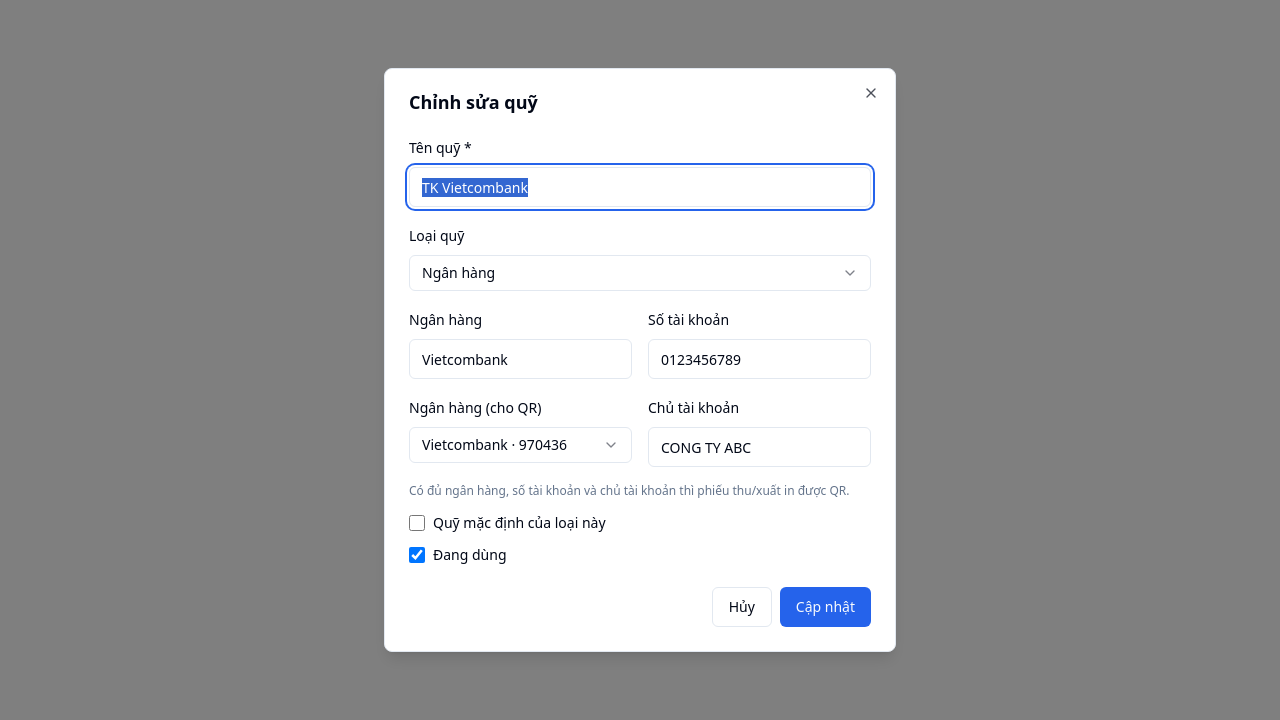
Scenario: FundFormDialog bank fields › bank_options_show_short_name_and_bin
The width and height of the screenshot is (1280, 720).
Click the dropdown named "Ngân hàng (cho QR)": (520, 445) [409,427,632,463]
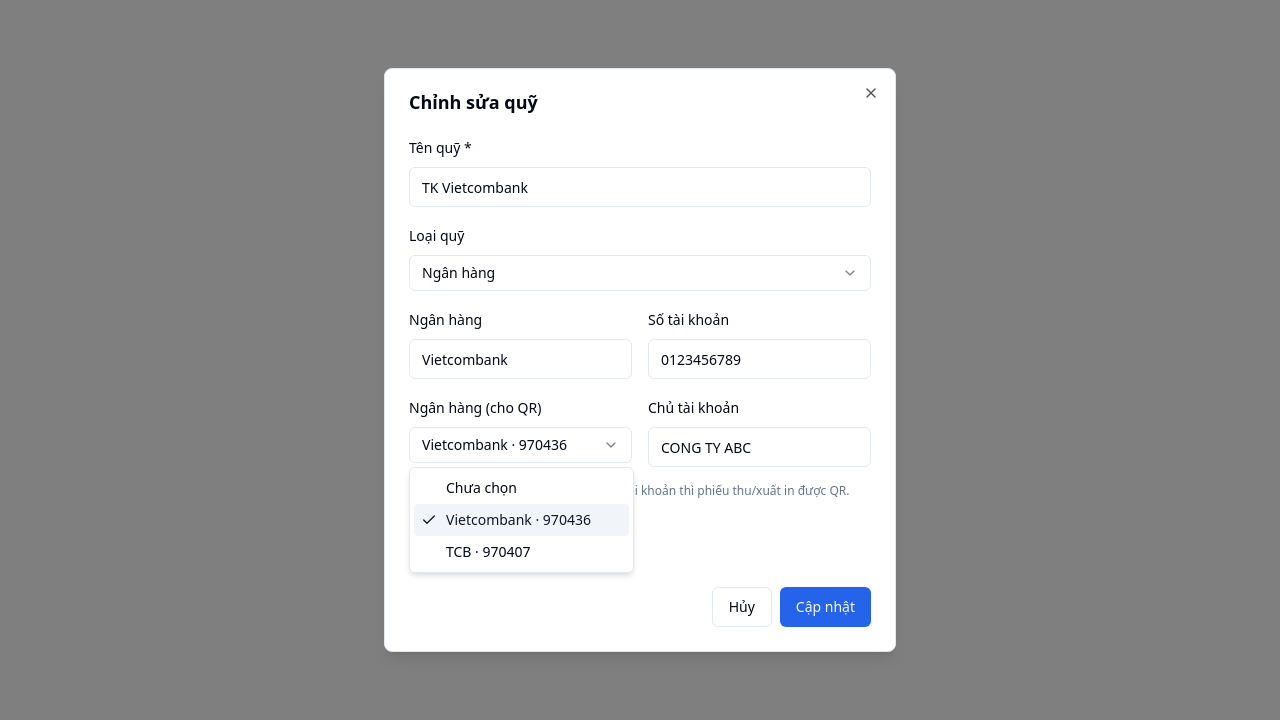
Expected: the option "Vietcombank · 970436" is shown, [414,504,629,536]
Expected: the option "TCB · 970407" is shown, [446,542,530,561]
